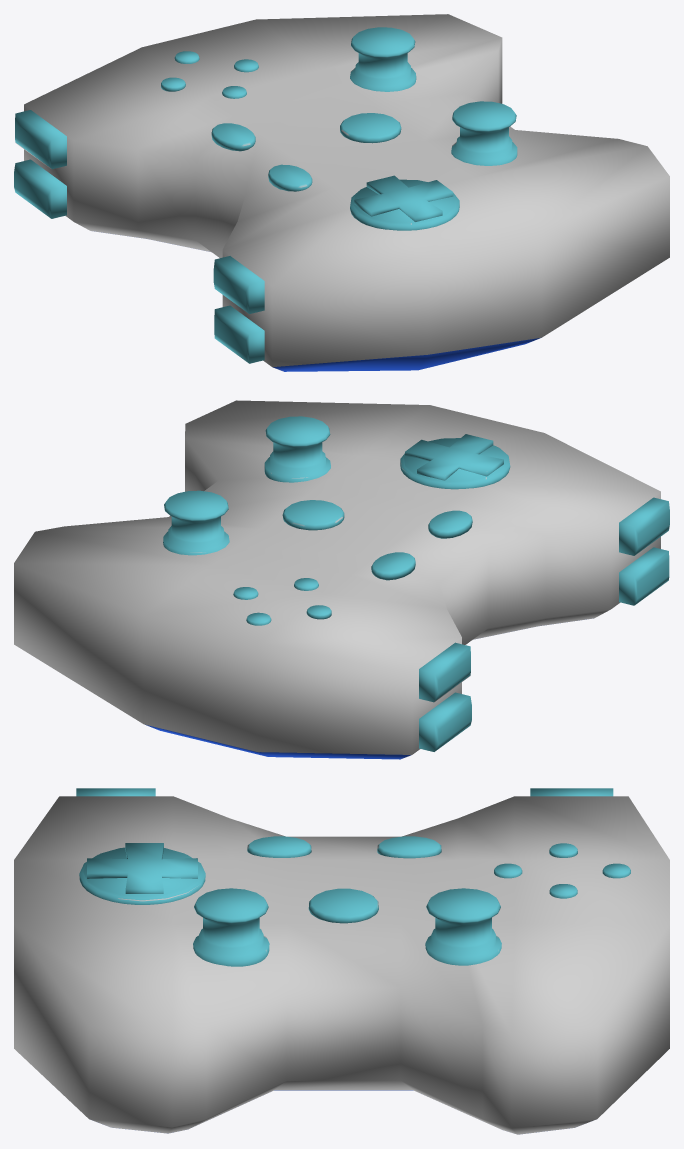
The model's file is controller.fbx.
3 views of the same model, one above another, from view 1: azimuth 30°, elevation 25°; view 2: azimuth 150°, elevation 25°; view 3: azimuth 270°, elevation 25° (orthographic). The views are drawn at different scales.
Visible parts, largest first — view 1: Cube; view 2: Cube; view 3: Cube.
Boxes of the visible parts, bbox=[...] form: Cube: bbox=[14, 14, 669, 371]; Cube: bbox=[14, 400, 669, 759]; Cube: bbox=[14, 788, 669, 1134].
Bounding box in the file's own units: 260 × 89.36 × 290.
1 material, 1 textured.
